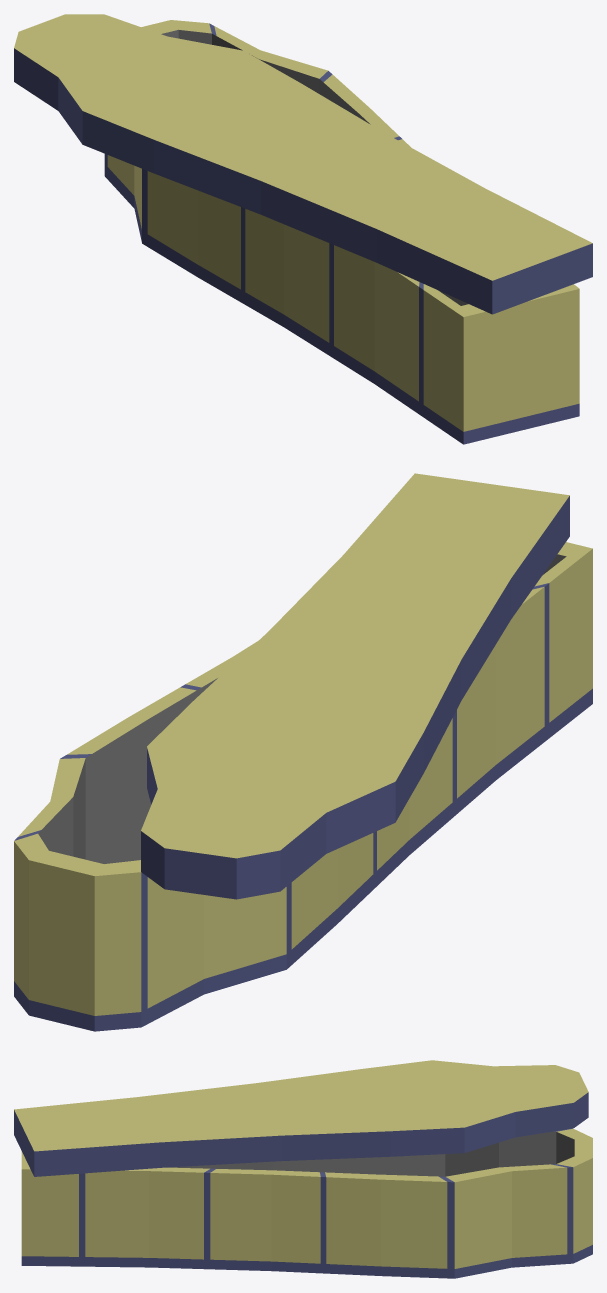
File: Coffin.fbx
3 renders of one model, top to bottom at view 1: azimuth 30°, elevation 25°; view 2: azimuth 150°, elevation 25°; view 3: azimuth 270°, elevation 25°, orthographic. The views are drawn at different scales.
Visible parts, largest first — view 1: pCube2, pCube1; view 2: pCube2, pCube1; view 3: pCube1, pCube2.
Part boxes in pixels (x1,y1,x2,y2): pCube2: (14,14,592,314); pCube1: (104,20,579,444); pCube2: (141,473,569,899); pCube1: (14,542,592,1031); pCube1: (21,1128,592,1278); pCube2: (14,1060,588,1176).
Size of the model in its own units: 1.18 by 0.6977 by 2.99.
